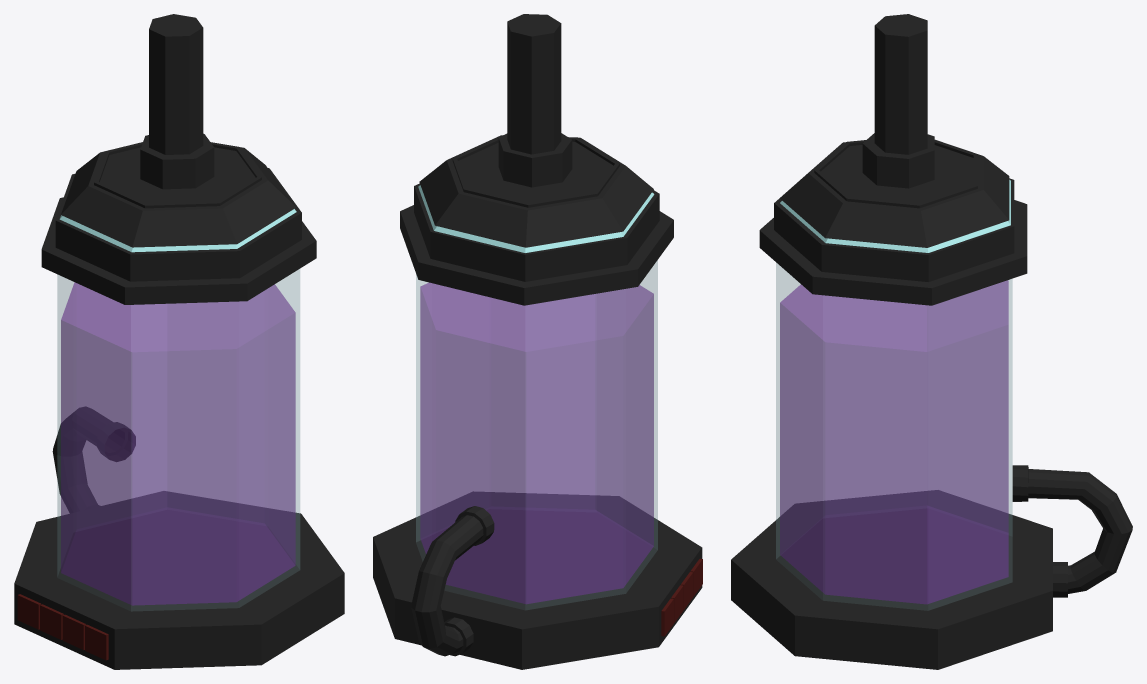
Rendered from vat.fbx.
3 renders of one model, left to right at view 1: azimuth 30°, elevation 25°; view 2: azimuth 150°, elevation 25°; view 3: azimuth 270°, elevation 25°, orthographic.
Visible parts, largest first — view 1: vat, liquid; view 2: vat, liquid; view 3: vat, liquid.
Boxes of the visible parts, x1,y1,x2,y2 form: vat: (14, 14, 344, 669); liquid: (61, 282, 295, 605); vat: (373, 14, 702, 669); liquid: (420, 282, 653, 604); vat: (731, 14, 1132, 669); liquid: (780, 280, 1008, 604).
Size of the model in its own units: 5.1 by 6.18 by 9.76.
